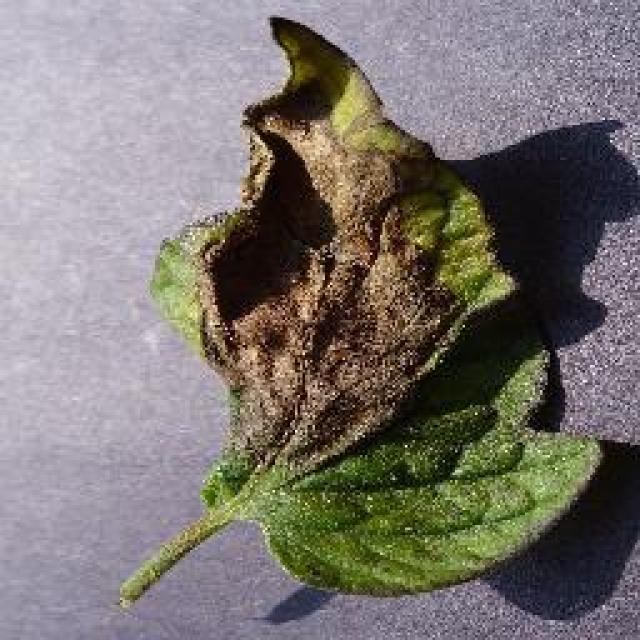Tomato Late Blight: (182, 88, 486, 477)
